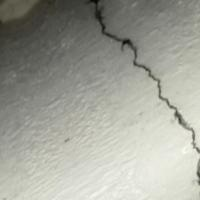crack: (86, 1, 199, 198)
